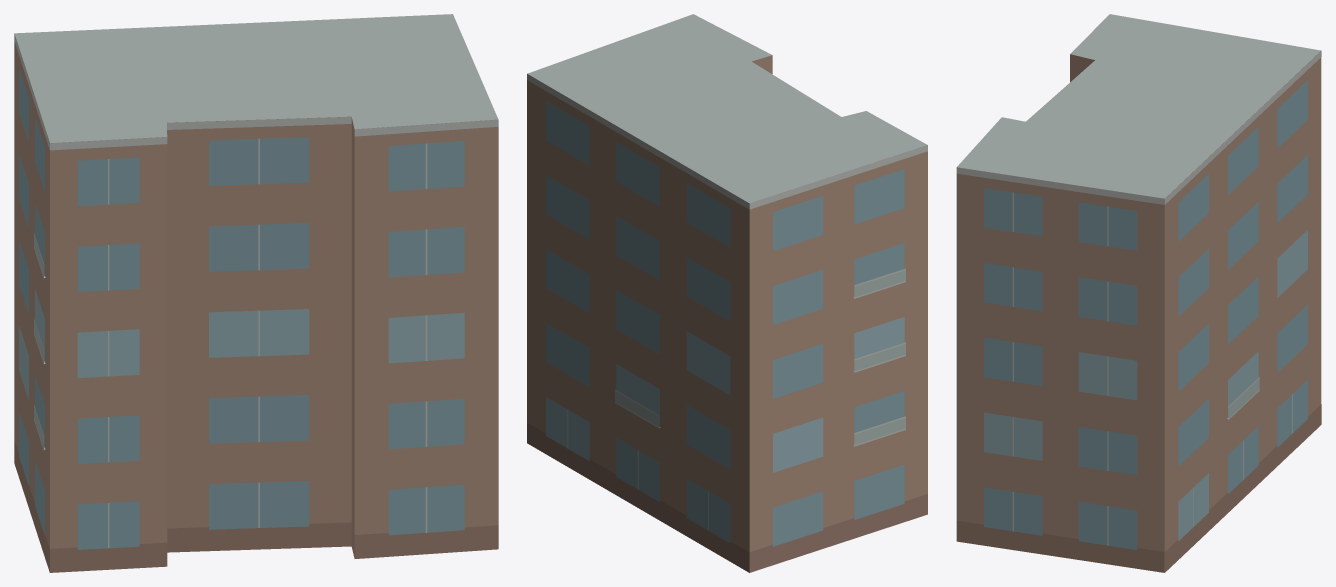
The model's file is survey-upis-33008493.glb.
The picture shows the model from 3 angles, left to right: view 1: azimuth 30°, elevation 25°; view 2: azimuth 150°, elevation 25°; view 3: azimuth 270°, elevation 25°; orthographic projection. The views are drawn at different scales.
Parts seen in each view (by area): view 1: survey-upis-33008493.tmp; view 2: survey-upis-33008493.tmp; view 3: survey-upis-33008493.tmp.
Part boxes in pixels (box(x1,y1,x2,y2)): survey-upis-33008493.tmp: box(14, 14, 498, 572); survey-upis-33008493.tmp: box(527, 14, 927, 572); survey-upis-33008493.tmp: box(956, 14, 1321, 572).
Bounding box in the file's own units: 15.25 × 14.4 × 12.73.
